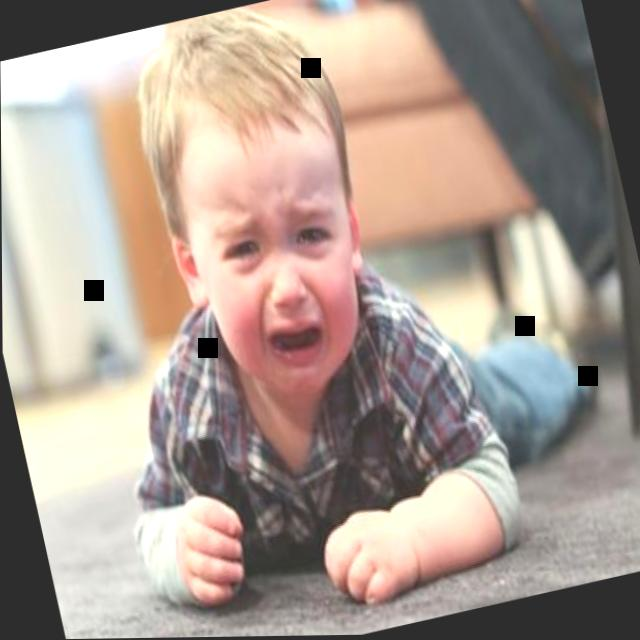Fall-Detected: (9, 0, 630, 640)
